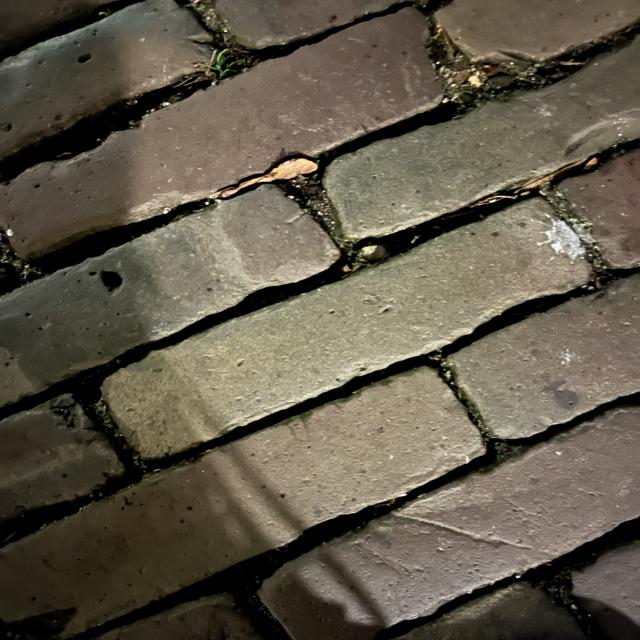leaves: (217, 149, 348, 213)
pavement: (261, 194, 640, 624), (36, 107, 230, 618), (284, 14, 637, 198)
weedling: (208, 51, 249, 81)
